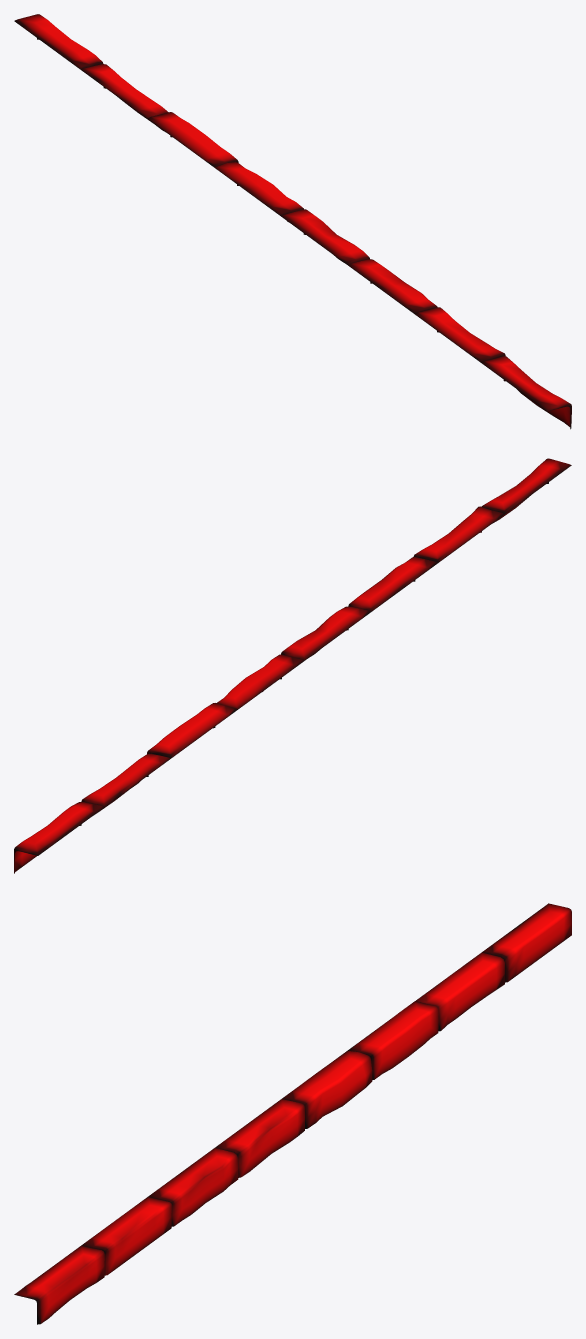
The model's file is curb_8.fbx.
3 views of the same model, one above another, from view 1: azimuth 30°, elevation 25°; view 2: azimuth 150°, elevation 25°; view 3: azimuth 330°, elevation 25° (orthographic).
Visible parts, largest first — view 1: curb_8; view 2: curb_8; view 3: curb_8.
Boxes of the visible parts, x1,y1,x2,y2 form: curb_8: [14, 14, 571, 429]; curb_8: [14, 458, 571, 873]; curb_8: [14, 903, 571, 1324].
Bounding box in the file's own units: 0.2482 × 0.2268 × 8.
